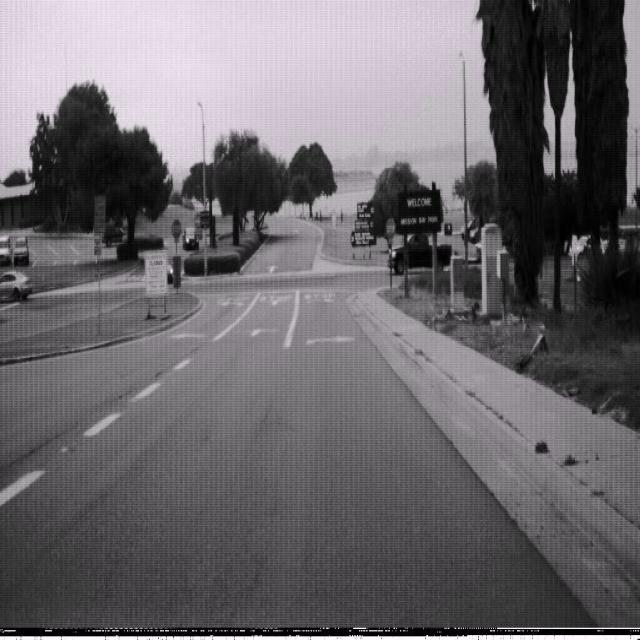stop: (171, 218, 182, 239), (386, 217, 396, 238)
